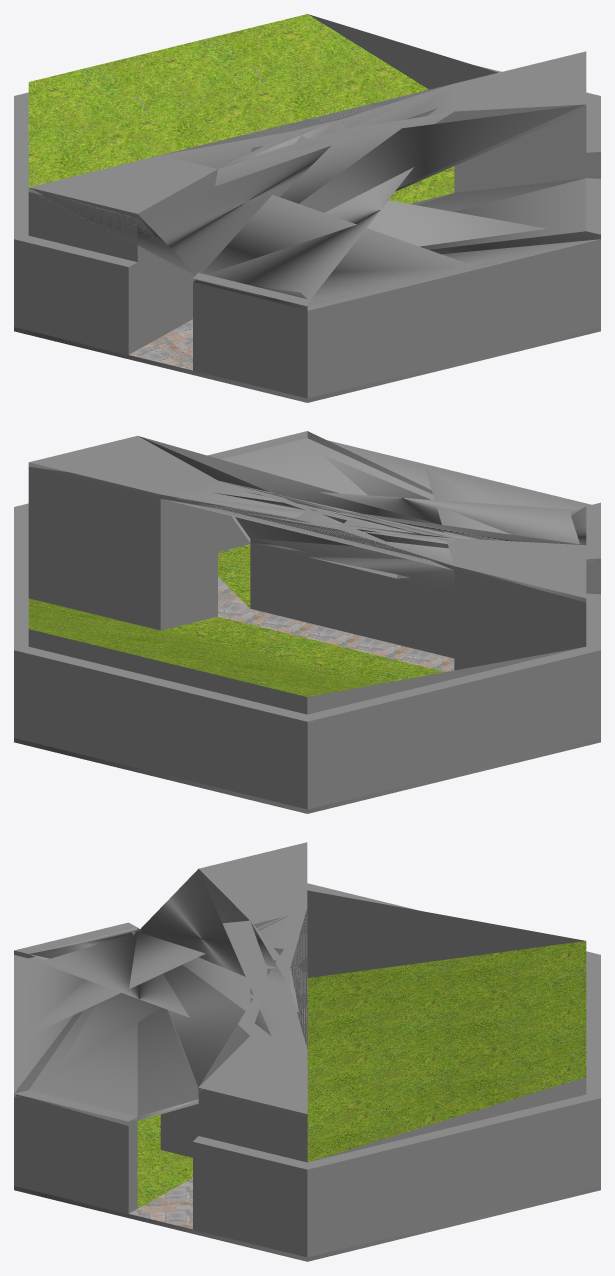
3 renders of one model, top to bottom at view 1: azimuth 30°, elevation 25°; view 2: azimuth 150°, elevation 25°; view 3: azimuth 270°, elevation 25°, orthographic.
Visible parts, largest first — view 1: Cylinder023; view 2: Cylinder023; view 3: Cylinder023.
Boxes of the visible parts, <box> form: Cylinder023: <box>14,14,600,402</box>; Cylinder023: <box>14,431,600,813</box>; Cylinder023: <box>14,842,600,1261</box>.
Bounding box in the file's own units: 140 × 32 × 121.
5 materials, 2 textured.
